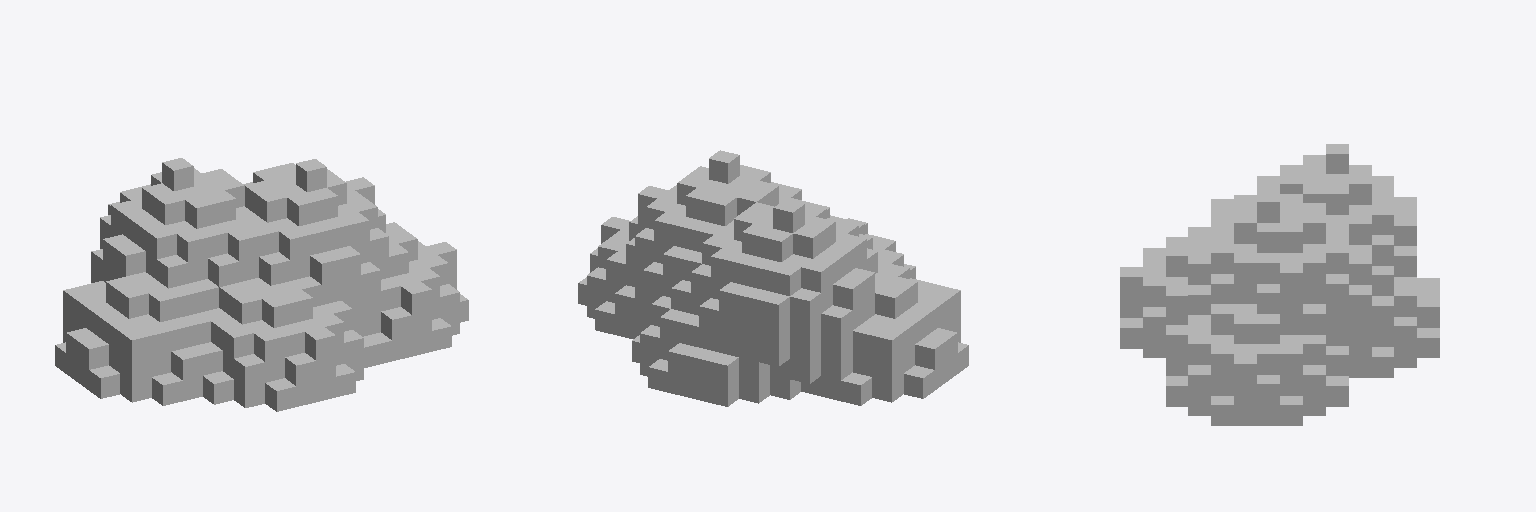
The model's file is flower1.obj.
3 renders of one model, left to right at view 1: azimuth 30°, elevation 25°; view 2: azimuth 150°, elevation 25°; view 3: azimuth 270°, elevation 25°, orthographic.
Visible parts, largest first — view 1: flower1; view 2: flower1; view 3: flower1.
Part boxes in pixels (x1,y1,x2,y2): flower1: (55, 158, 468, 411); flower1: (578, 150, 968, 406); flower1: (1120, 144, 1439, 425).
Size of the model in its own units: 18 by 8 by 14.